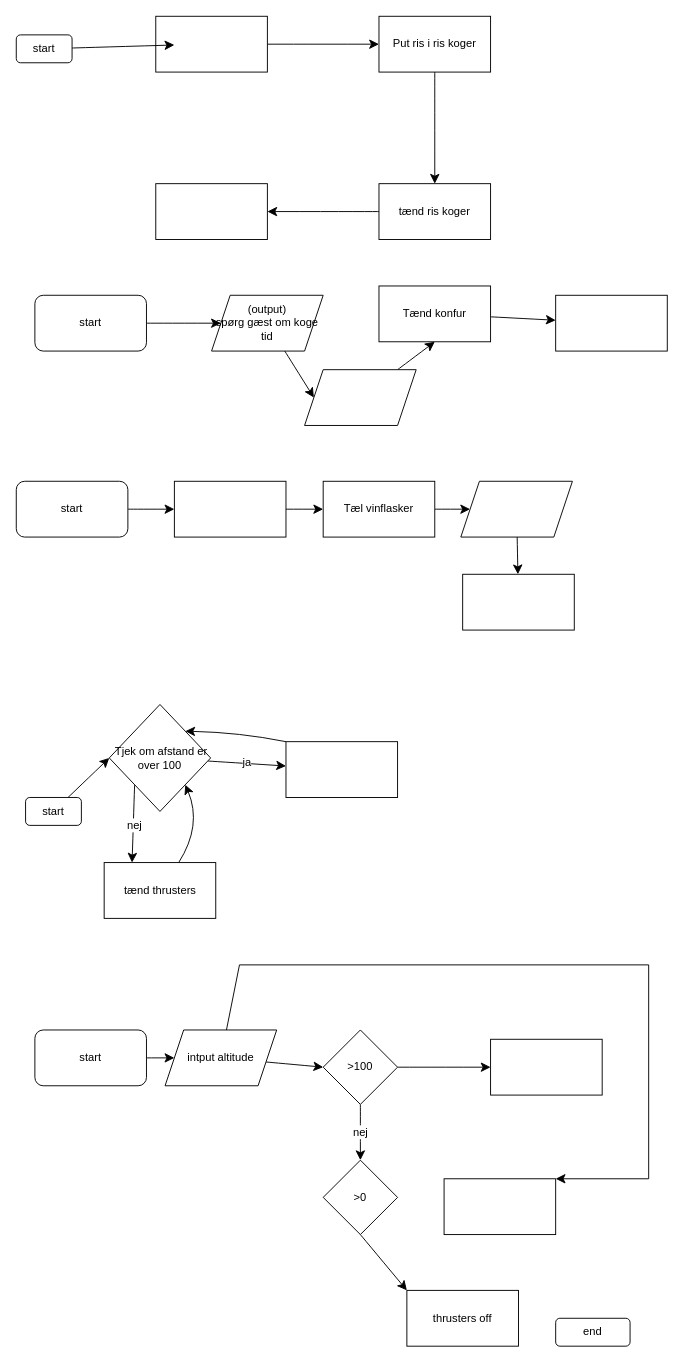
Image size: 684x1362. Some labels were removed from this diagram. The shapes that lost their labels are listed below. From the top down, each one's centre as x and y in pixels, then its label:
the point at 211,43: Afvej ris
the point at 211,211: sæt tid på riskoger
the point at 611,322: når vand koger sæt x tid
the point at 360,397: (input) svar x
the point at 229,508: Åben køleskab
the point at 516,508: (input)tag talte og træk 1 fra
the point at 341,769: turn off thrusters
the point at 546,1066: off
the point at 499,1206: thruster on
